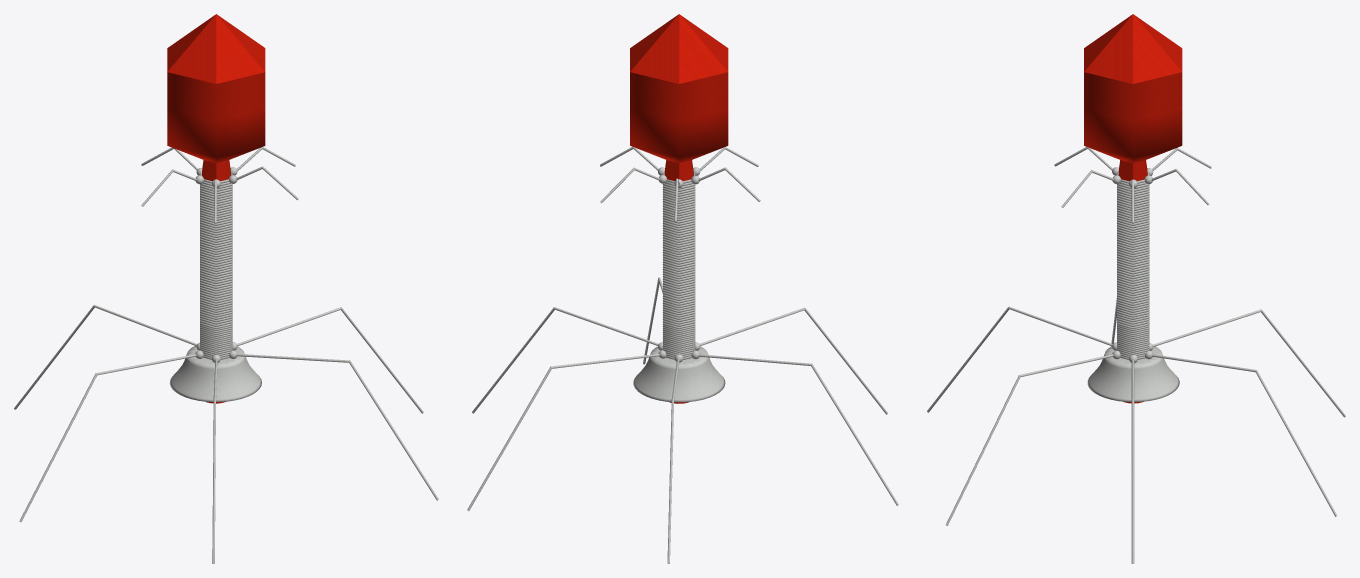
The model's file is virus.DAE.
3 views of the same model, side by side, from view 1: azimuth 30°, elevation 25°; view 2: azimuth 150°, elevation 25°; view 3: azimuth 270°, elevation 25° (orthographic).
Visible parts, largest first — view 1: Cylinder001, Cylinder002, Line006, Line004, Line001, Line003, Line005; view 2: Cylinder001, Cylinder002, Line004, Line002, Line005, Line001, Line003; view 3: Cylinder001, Cylinder002, Line002, Line001, Line006, Line003, Line005.
Part boxes in pixels (bbox=[...]): Cylinder001: bbox=[167, 14, 265, 181]; Cylinder002: bbox=[169, 346, 261, 402]; Line006: bbox=[236, 354, 438, 500]; Line004: bbox=[19, 354, 196, 522]; Line001: bbox=[237, 307, 423, 413]; Line003: bbox=[14, 304, 197, 409]; Line005: bbox=[212, 359, 217, 563]; Cylinder001: bbox=[630, 14, 728, 181]; Cylinder002: bbox=[633, 346, 725, 402]; Line004: bbox=[698, 354, 898, 505]; Line002: bbox=[467, 353, 659, 510]; Line005: bbox=[699, 307, 887, 414]; Line001: bbox=[472, 307, 658, 413]; Line003: bbox=[667, 358, 679, 563]; Cylinder001: bbox=[1084, 14, 1182, 181]; Cylinder002: bbox=[1087, 346, 1179, 402]; Line002: bbox=[1152, 354, 1337, 516]; Line001: bbox=[1131, 359, 1134, 563]; Line006: bbox=[946, 354, 1113, 525]; Line003: bbox=[1153, 309, 1345, 417]; Line005: bbox=[927, 306, 1112, 412].
Size of the model in its own units: 62.31 by 64.44 by 54.41.
